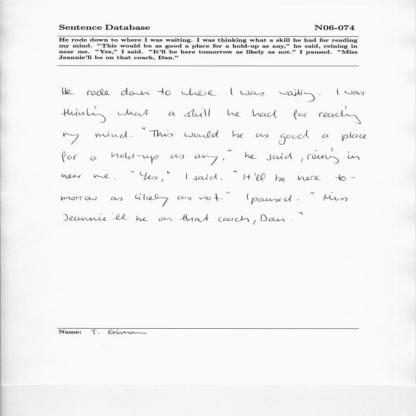Handwritten text: (42, 126, 375, 147), (55, 81, 372, 103), (46, 148, 368, 169), (50, 188, 363, 209), (58, 105, 374, 125), (54, 170, 349, 188), (56, 211, 310, 227)
